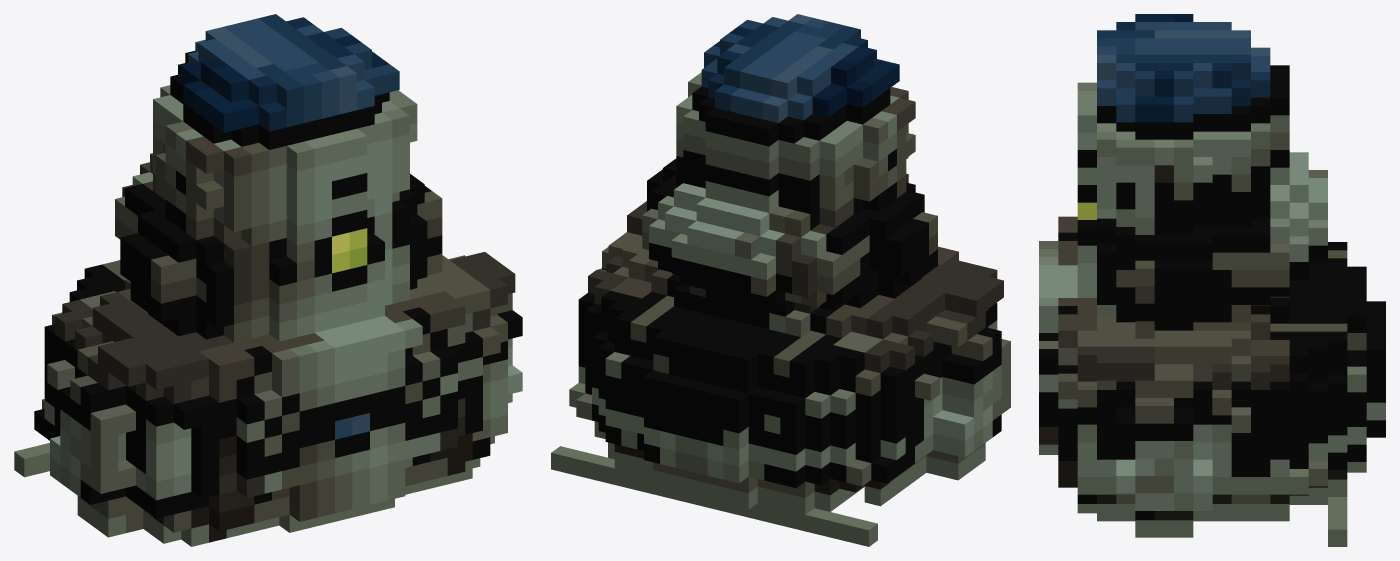
File: Icon_748_01.obj
The picture shows the model from 3 angles, left to right: view 1: azimuth 30°, elevation 25°; view 2: azimuth 150°, elevation 25°; view 3: azimuth 270°, elevation 25°; orthographic projection. The views are drawn at different scales.
Size of the model in its own units: 2.4 by 2.4 by 1.8.
